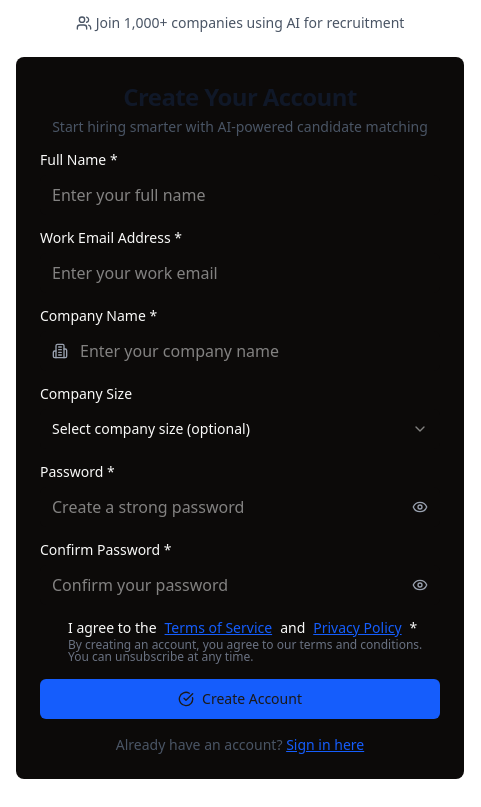
EnhancedSignUpForm › Form Validation › validates required fields on submission
Click the button "Create Account": (240, 699) [40, 679, 440, 719]
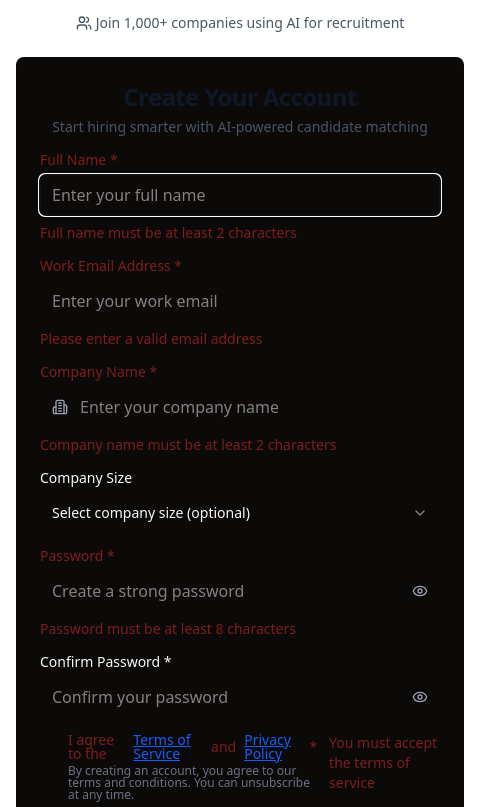
Expected: the text "Full name must be at least 2 characters" is shown, [40, 223, 297, 242]
Expected: the text "Please enter a valid email address" is shown, [40, 329, 262, 348]
Expected: the text "Company name must be at least 2 characters" is shown, [40, 435, 336, 454]
